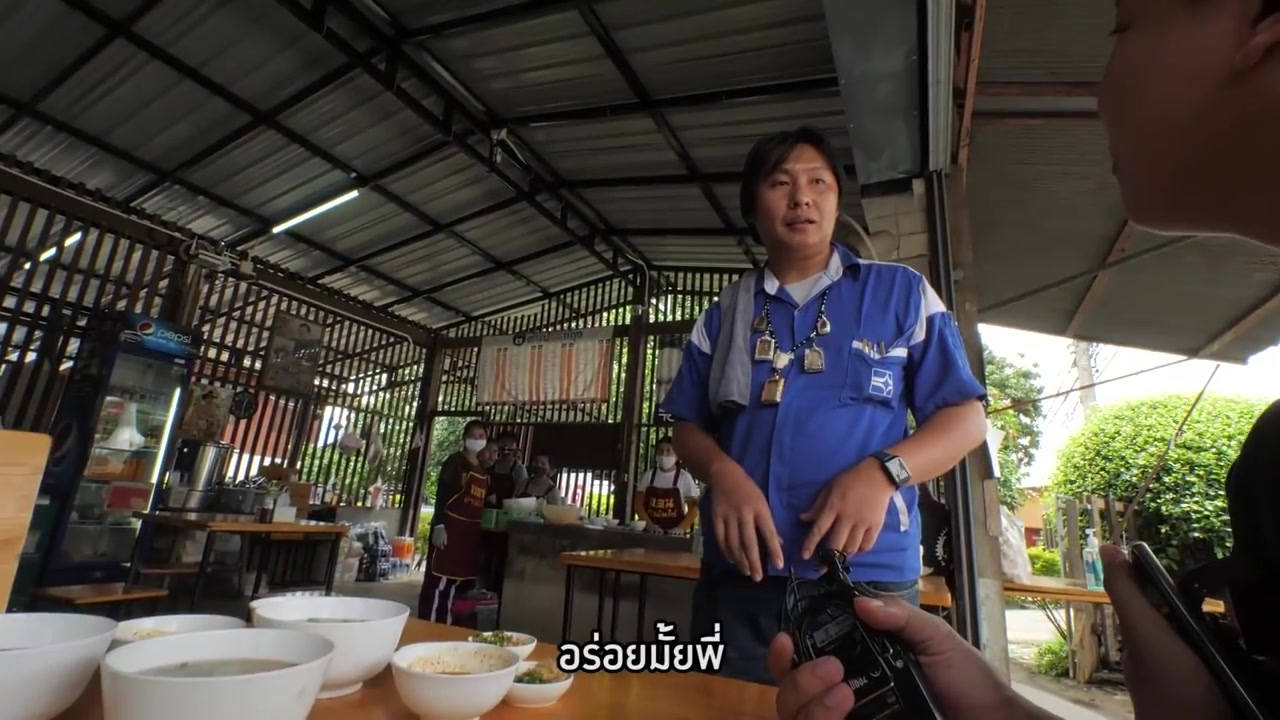text-label: (561, 621, 729, 677)
